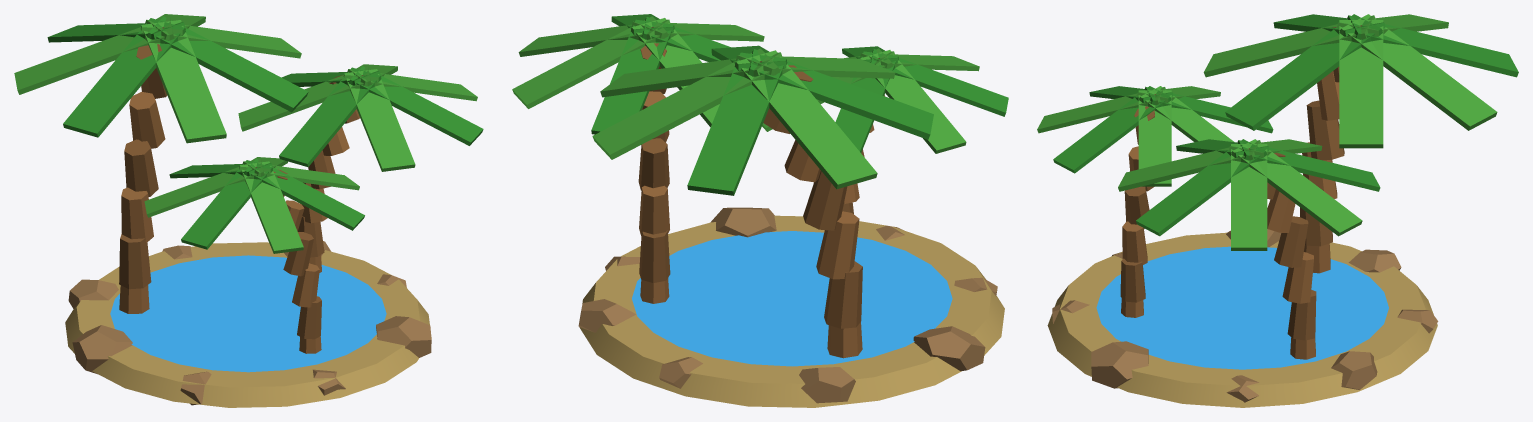
The model's file is landmark_oasis.glb.
3 views of the same model, side by side, from view 1: azimuth 30°, elevation 25°; view 2: azimuth 150°, elevation 25°; view 3: azimuth 270°, elevation 25° (orthographic). The views are drawn at different scales.
Visible parts, largest first — view 1: Landmark_oasis; view 2: Landmark_oasis; view 3: Landmark_oasis.
Boxes of the visible parts, x1,y1,x2,y2 form: Landmark_oasis: [14, 14, 483, 407]; Landmark_oasis: [512, 14, 1008, 407]; Landmark_oasis: [1037, 14, 1518, 407].
Size of the model in its own units: 7.77 by 5.36 by 7.9.
